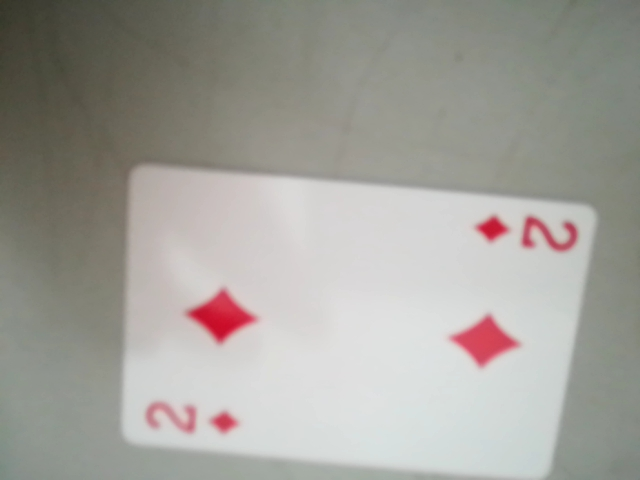fk 2: (136, 386, 256, 449), (469, 203, 586, 262)
